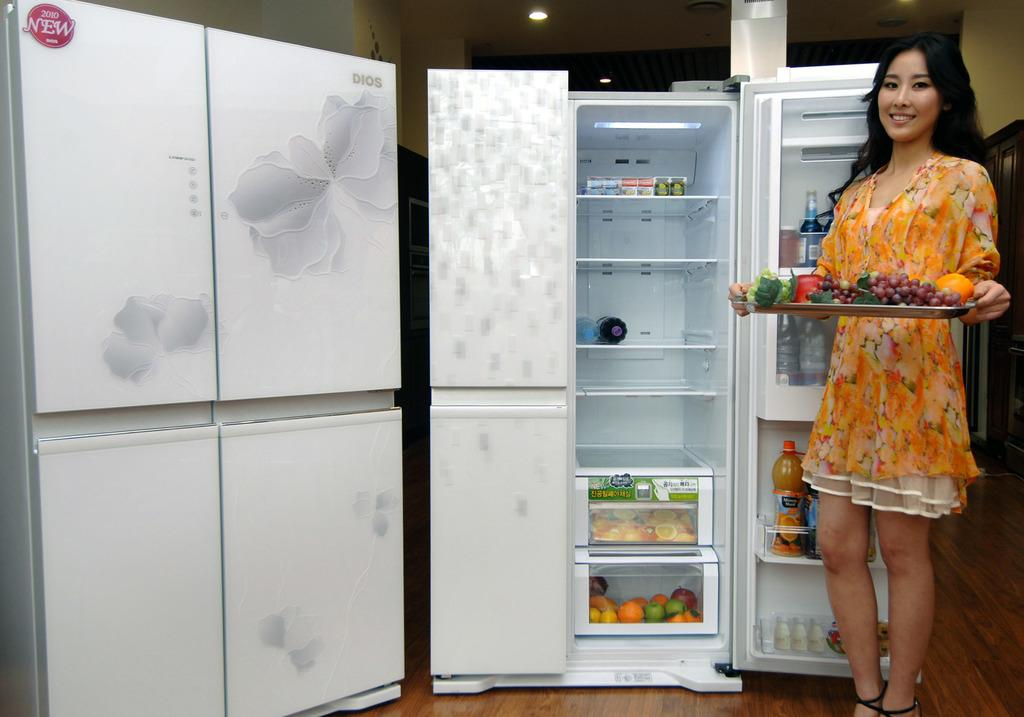handle: (36, 394, 222, 443), (219, 390, 397, 433), (429, 376, 573, 426)
